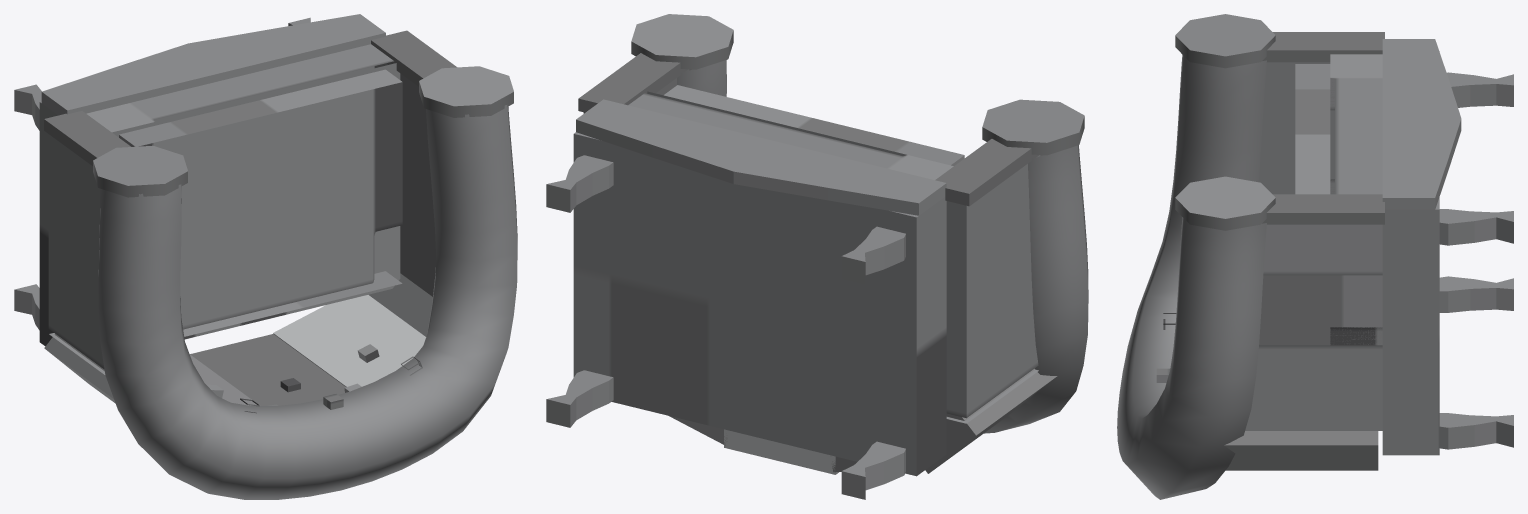
The picture shows the model from 3 angles, left to right: view 1: azimuth 30°, elevation 25°; view 2: azimuth 150°, elevation 25°; view 3: azimuth 270°, elevation 25°; orthographic projection. The views are drawn at different scales.
Bounding box in the file's own units: 1.13 × 0.869 × 0.908.
